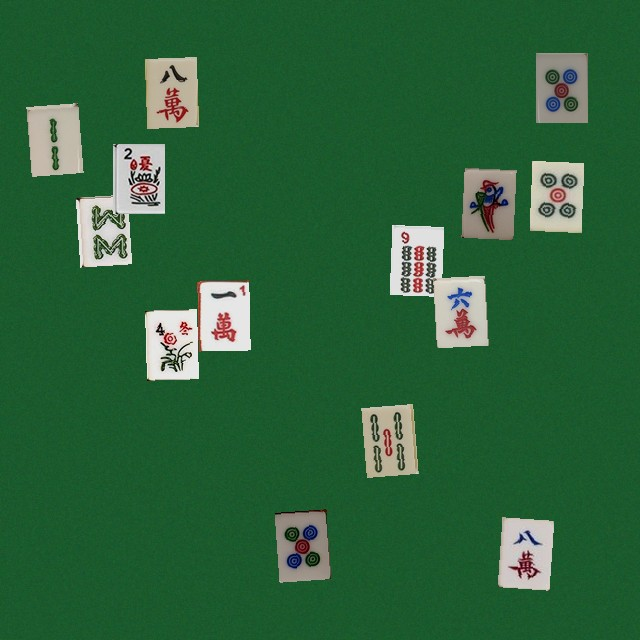tile: (389, 225, 441, 295), (274, 509, 326, 579), (144, 57, 196, 127), (26, 103, 78, 173), (145, 309, 197, 379), (433, 275, 485, 345), (497, 517, 549, 587), (197, 280, 249, 350), (461, 167, 513, 237), (75, 194, 127, 264), (361, 404, 413, 474), (529, 160, 581, 230), (112, 143, 164, 213), (535, 52, 587, 122)
